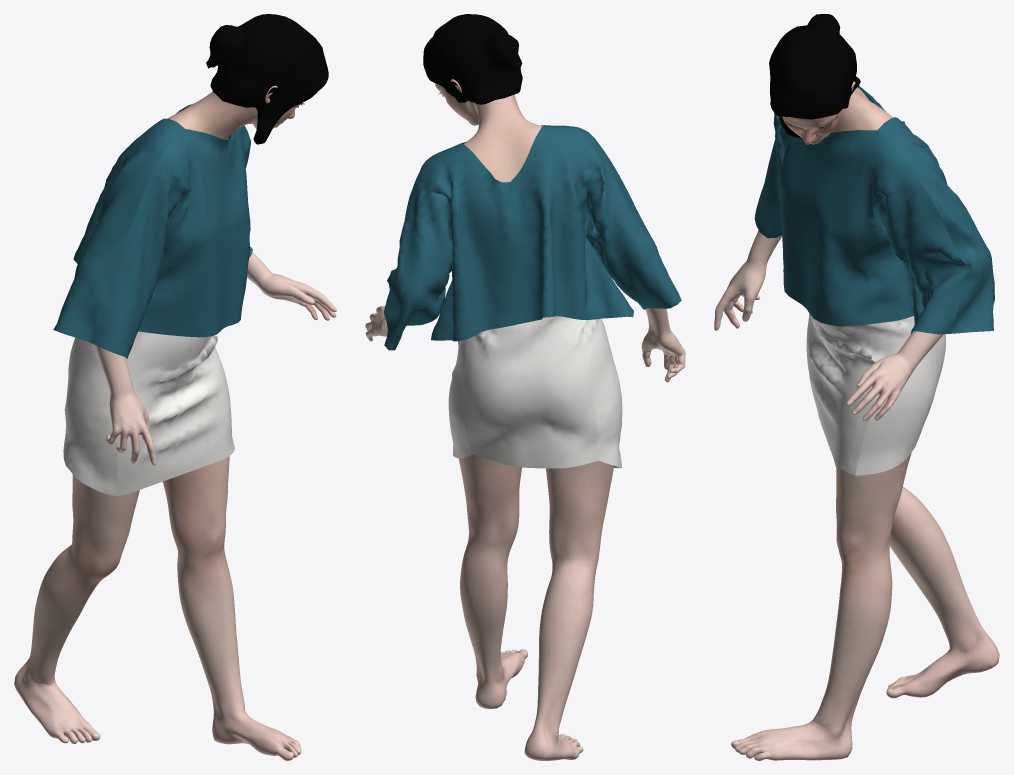
File: Custom_View_10__random.obj
The picture shows the model from 3 angles, left to right: view 1: azimuth 30°, elevation 25°; view 2: azimuth 150°, elevation 25°; view 3: azimuth 270°, elevation 25°; orthographic projection. The views are drawn at different scales.
Bounding box in the file's own units: 742 × 1681 × 585.
